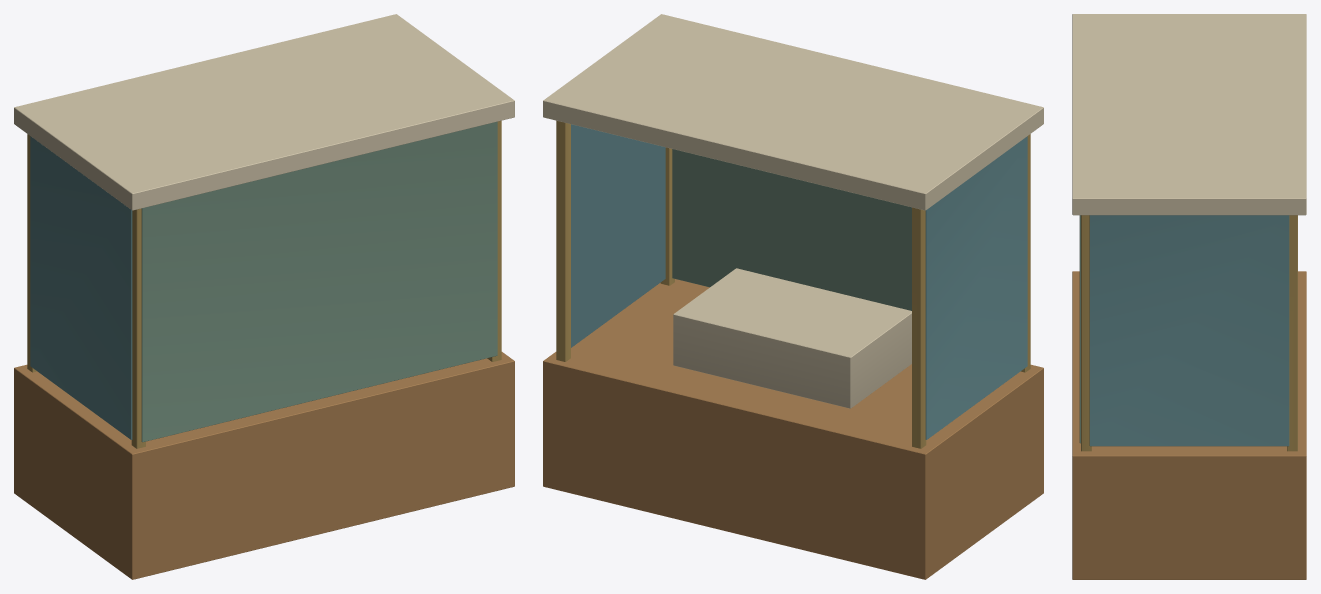
File: museum_case_low.glb
3 views of the same model, side by side, from view 1: azimuth 30°, elevation 25°; view 2: azimuth 150°, elevation 25°; view 3: azimuth 270°, elevation 25° (orthographic).
Size of the model in its own units: 1.4 by 1.35 by 0.75.
